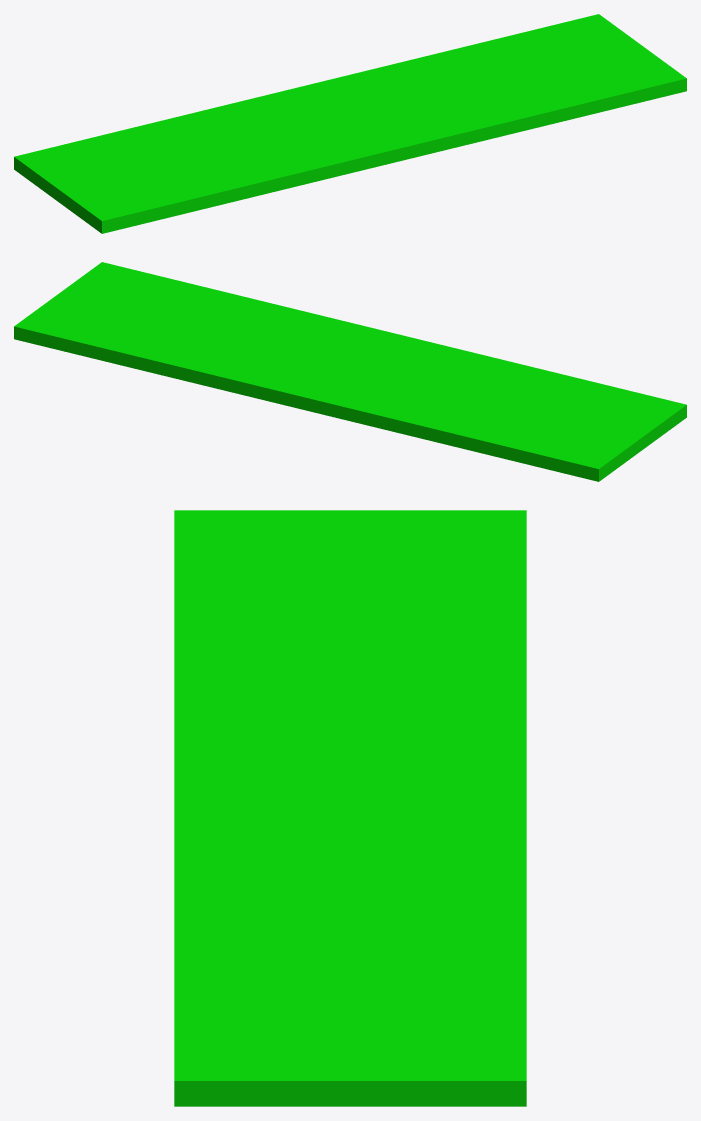
Rendered from dolly.fbx.
The picture shows the model from 3 angles, top to bottom: view 1: azimuth 30°, elevation 25°; view 2: azimuth 150°, elevation 25°; view 3: azimuth 270°, elevation 25°; orthographic projection. The views are drawn at different scales.
Visible parts, largest first — view 1: Cube; view 2: Cube; view 3: Cube.
Boxes of the visible parts, x1,y1,x2,y2 form: Cube: (14,14,686,233); Cube: (14,262,686,481); Cube: (174,510,526,1106).
Bounding box in the file's own units: 200 × 4.18 × 52.15.
